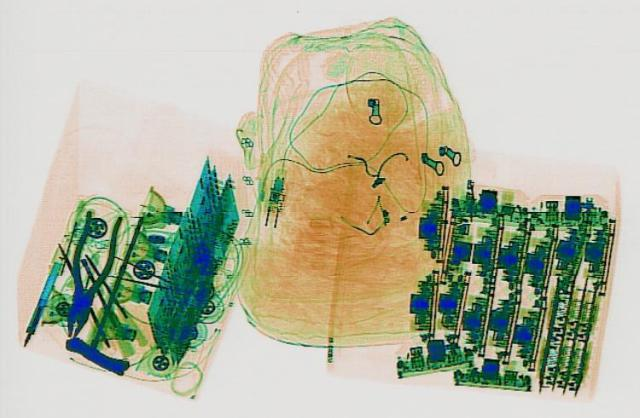Pliers: (48, 207, 124, 338)
